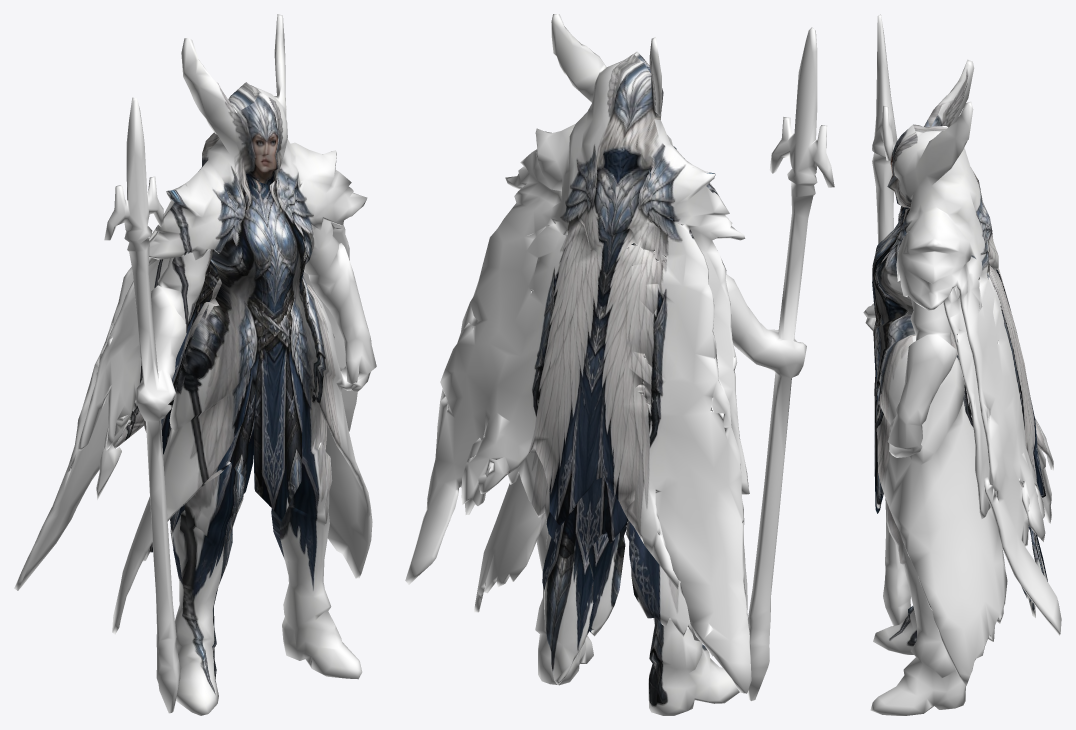
File: valkyrie.glb
3 renders of one model, left to right at view 1: azimuth 30°, elevation 25°; view 2: azimuth 150°, elevation 25°; view 3: azimuth 270°, elevation 25°, orthographic. The views are drawn at different scales.
Visible parts, largest first — view 1: world; view 2: world; view 3: world.
Part boxes in pixels (box(x1,y1,x2,y2)): world: box(14, 14, 376, 715); world: box(405, 14, 834, 715); world: box(863, 14, 1061, 715).
Bounding box in the file's own units: 0.946 × 1.8 × 0.5407.
1 material, 1 textured.
